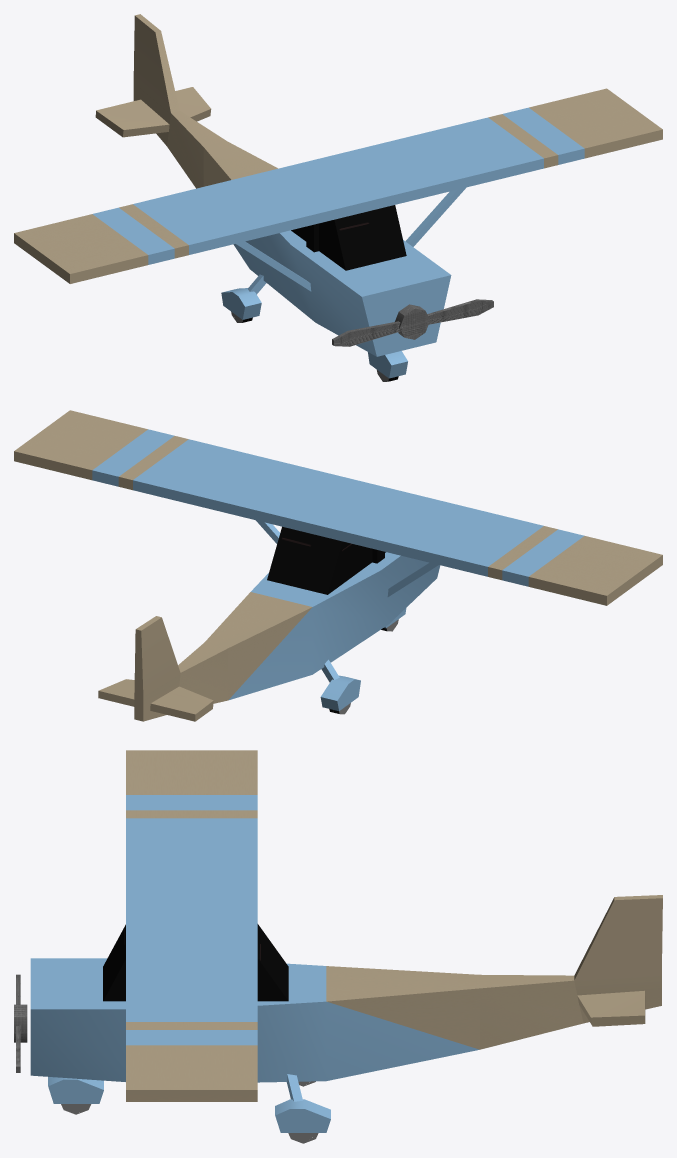
3 views of the same model, one above another, from view 1: azimuth 30°, elevation 25°; view 2: azimuth 150°, elevation 25°; view 3: azimuth 270°, elevation 25° (orthographic). The views are drawn at different scales.
Visible parts, largest first — view 1: Box327, Object001, Object002, Box333; view 2: Box327, Object001, Object002; view 3: Box327, Object001, Object002, Box333.
Boxes of the visible parts, left/top/right/bottom form: Box327: left=92, top=107, right=584, bottom=378; Object001: left=14, top=14, right=662, bottom=283; Object002: left=291, top=205, right=406, bottom=270; Box333: left=332, top=299, right=493, bottom=346; Box327: left=92, top=429, right=584, bottom=710; Object001: left=14, top=410, right=662, bottom=721; Object002: left=267, top=526, right=385, bottom=594; Box327: left=30, top=795, right=479, bottom=1132; Object001: left=126, top=750, right=662, bottom=1101; Object002: left=103, top=924, right=288, bottom=1001; Box333: left=14, top=974, right=27, bottom=1072.
Bounding box in the file's own units: 25.77 × 7.61 × 20.79.
Materials: 7 (7 with a texture image).
